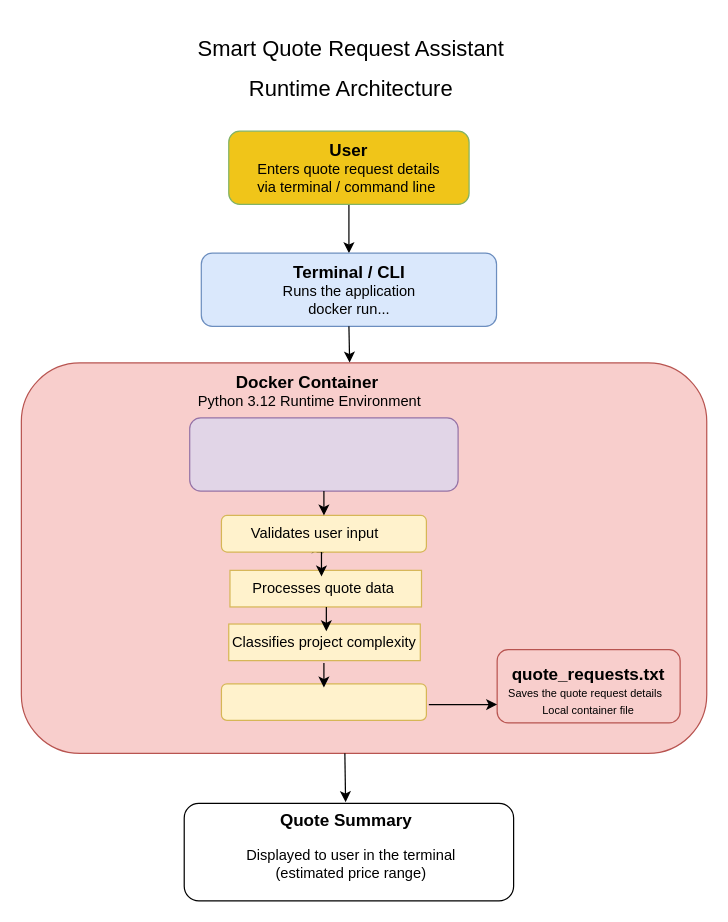
Image size: 728x922. Some labels were removed from this diagram. Here are the shapes that lost their labels. From the top down, the centre of each, then its label:
pixel 323 454: main.py Processes the quote request
pixel 323 701: Calculates price range
